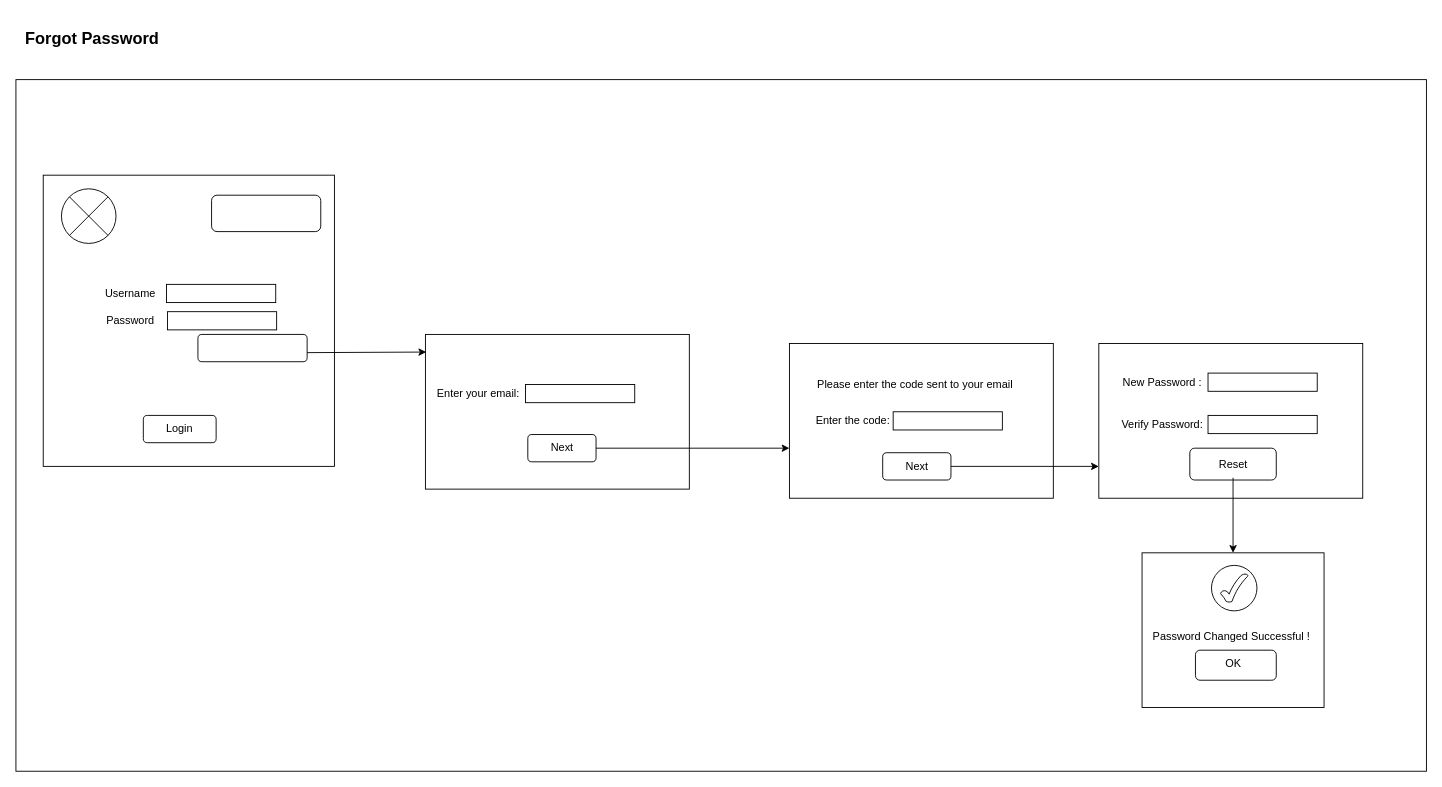
Some shapes in this 1442 by 787 pixel diagram are drawn without their labels. Here are the shapes that lost their labels. From the top down, the centre of each, then its label:
At point (266, 213): "Guest Mode".
At point (252, 348): "Forgot Password?".
